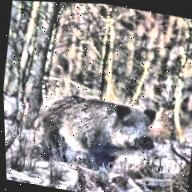boar: (29, 87, 161, 181)
